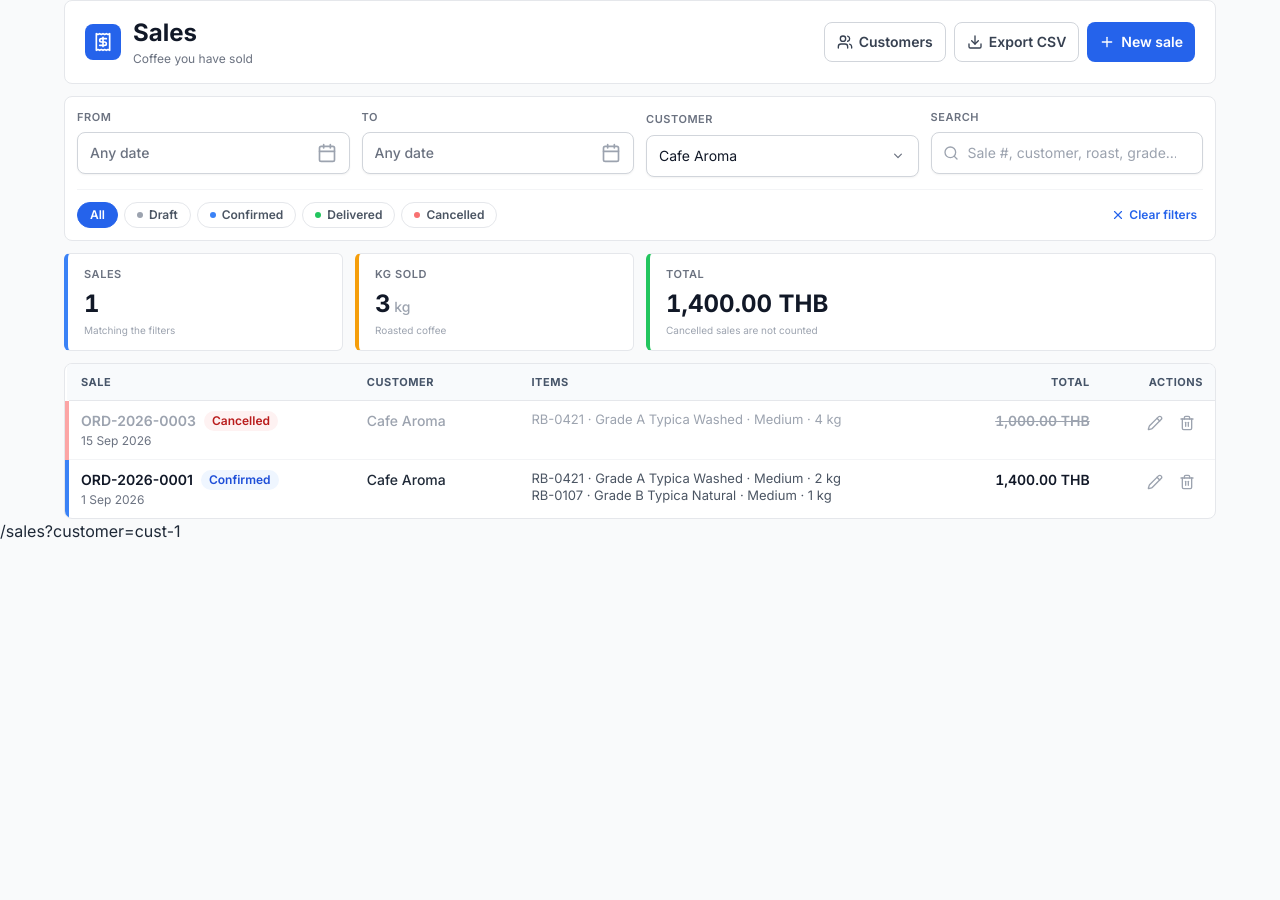
Test: SalesLog › shows the details of a sale right after it is recorded
Click the button "New sale" at (1141, 42), box [1087, 22, 1195, 62]
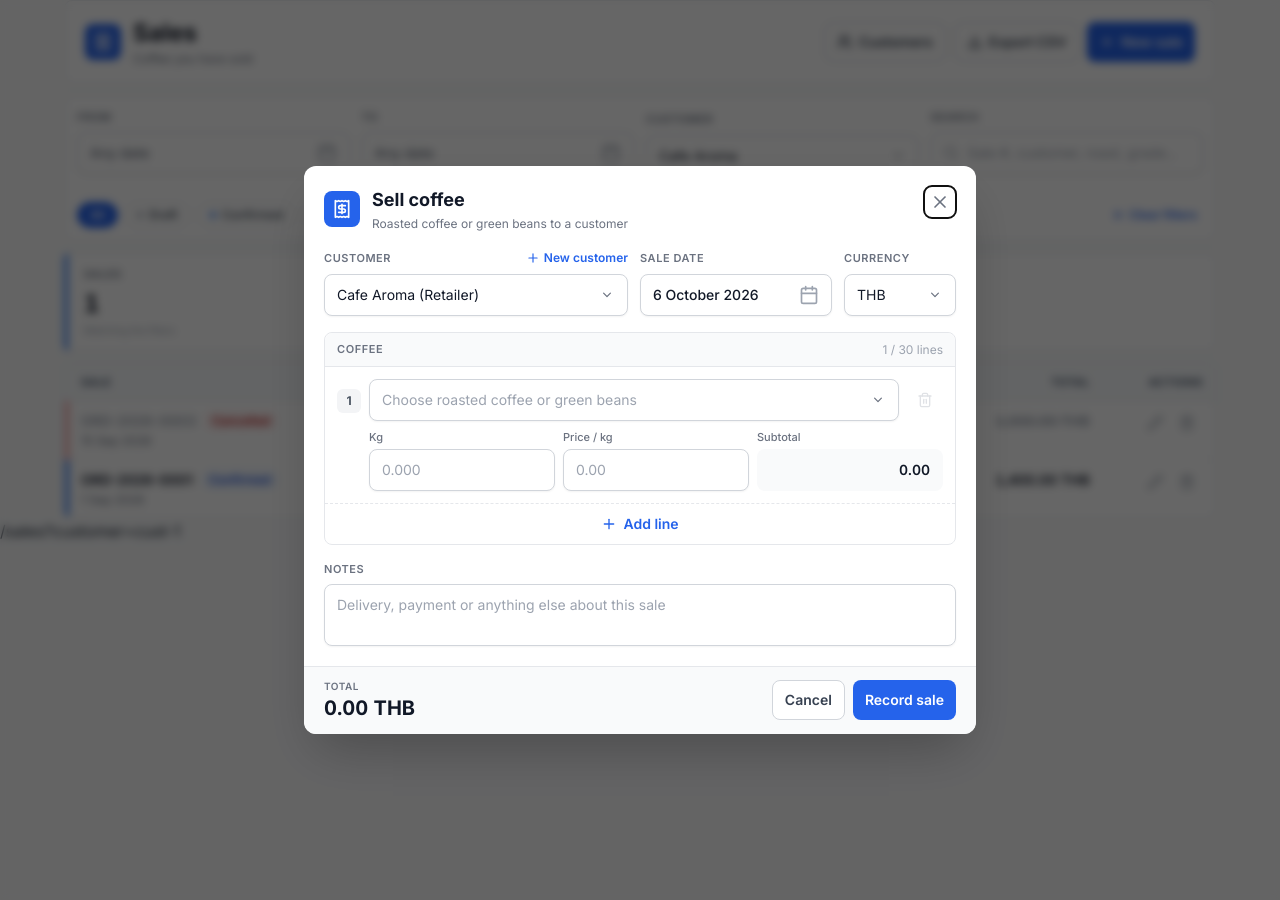
Click the button "Choose roasted coffee or green beans" at (634, 400), box [369, 379, 899, 421]
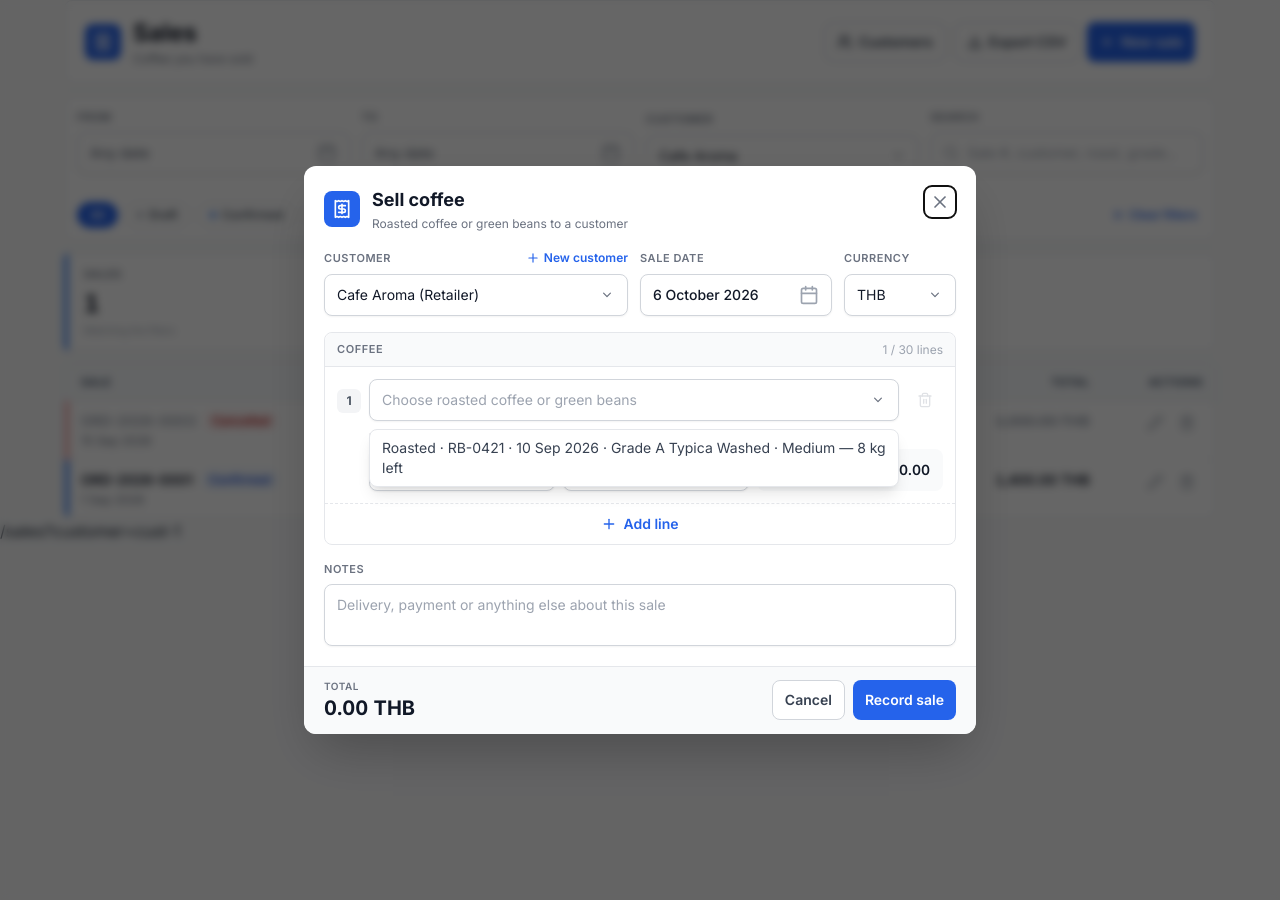
Click the button "RB-0421" at (634, 458), box [370, 430, 898, 486]
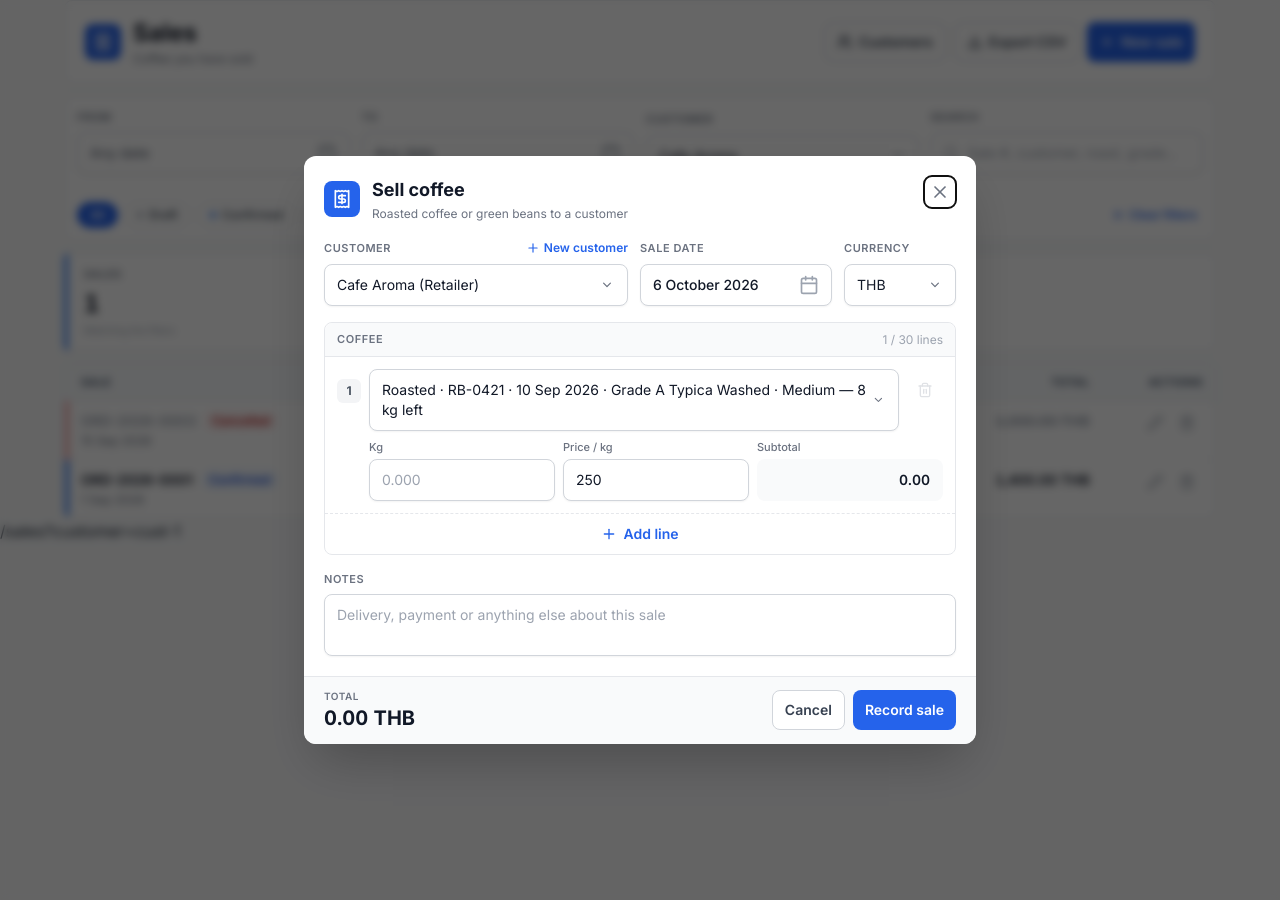
Type "1" into the field labelled "Kg" at (462, 480), box [369, 459, 555, 501]
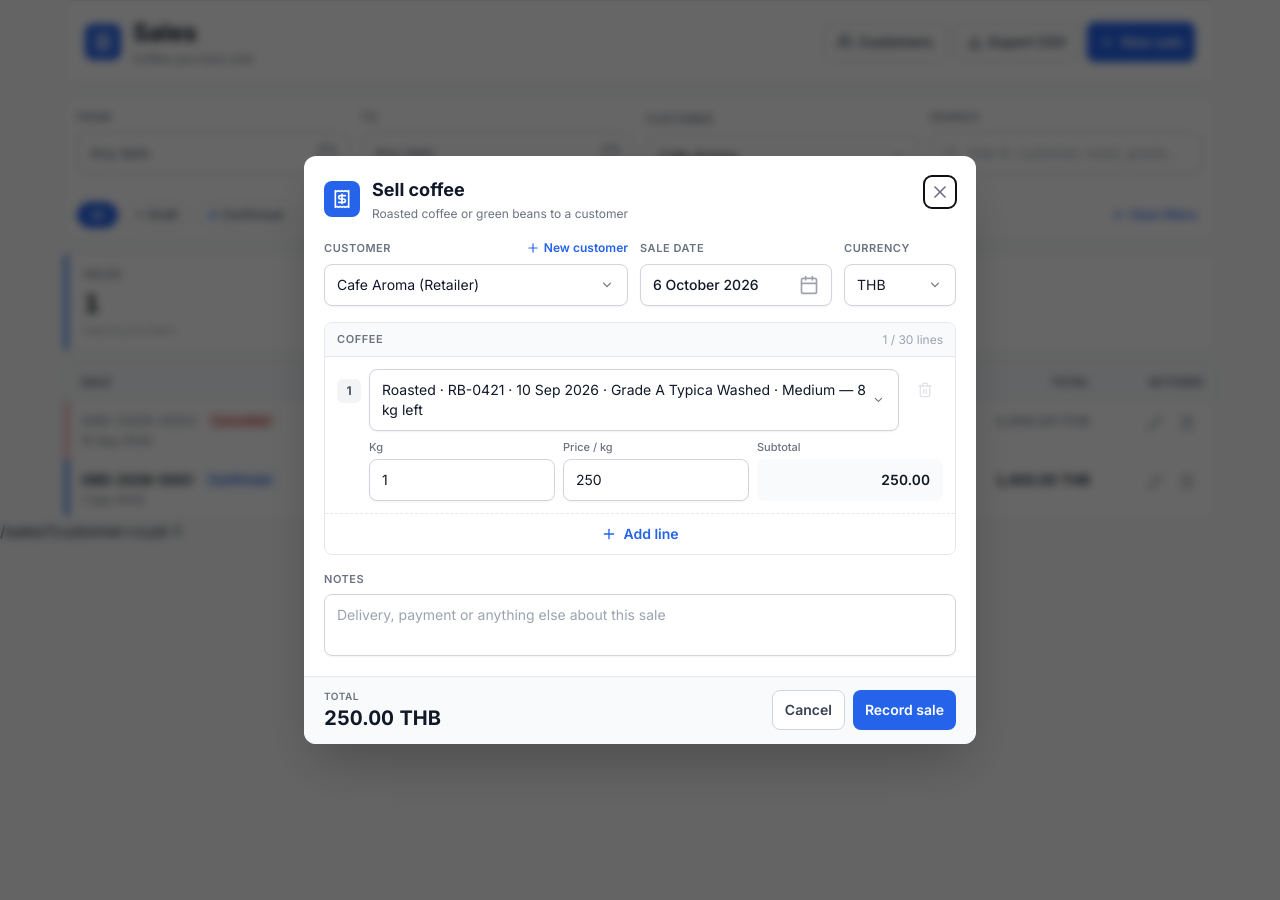
Replace the text in the field labelled "Price / kg" with "500" at (656, 480), box [563, 459, 749, 501]
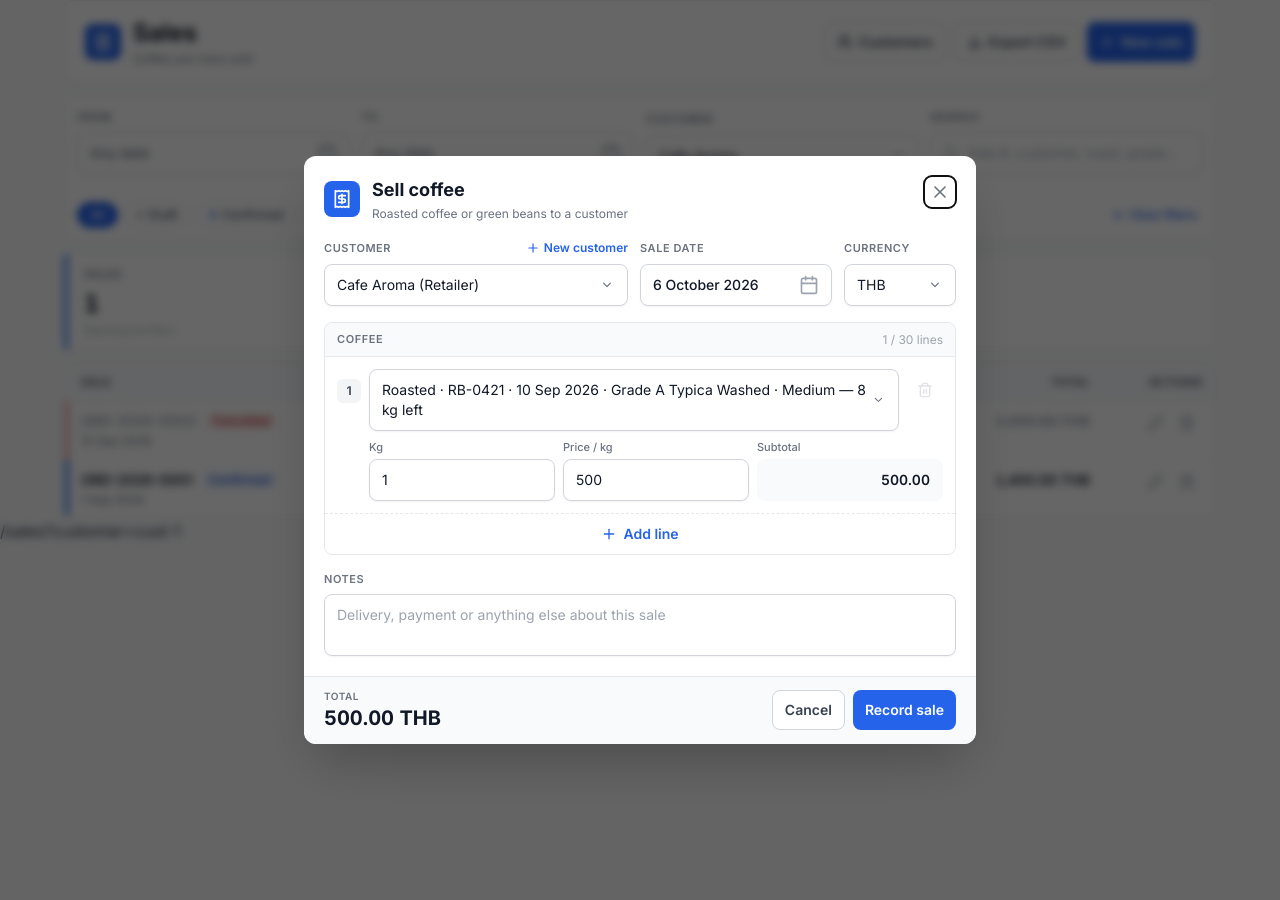
Click the button "Record sale" at (904, 710), box [853, 690, 956, 730]
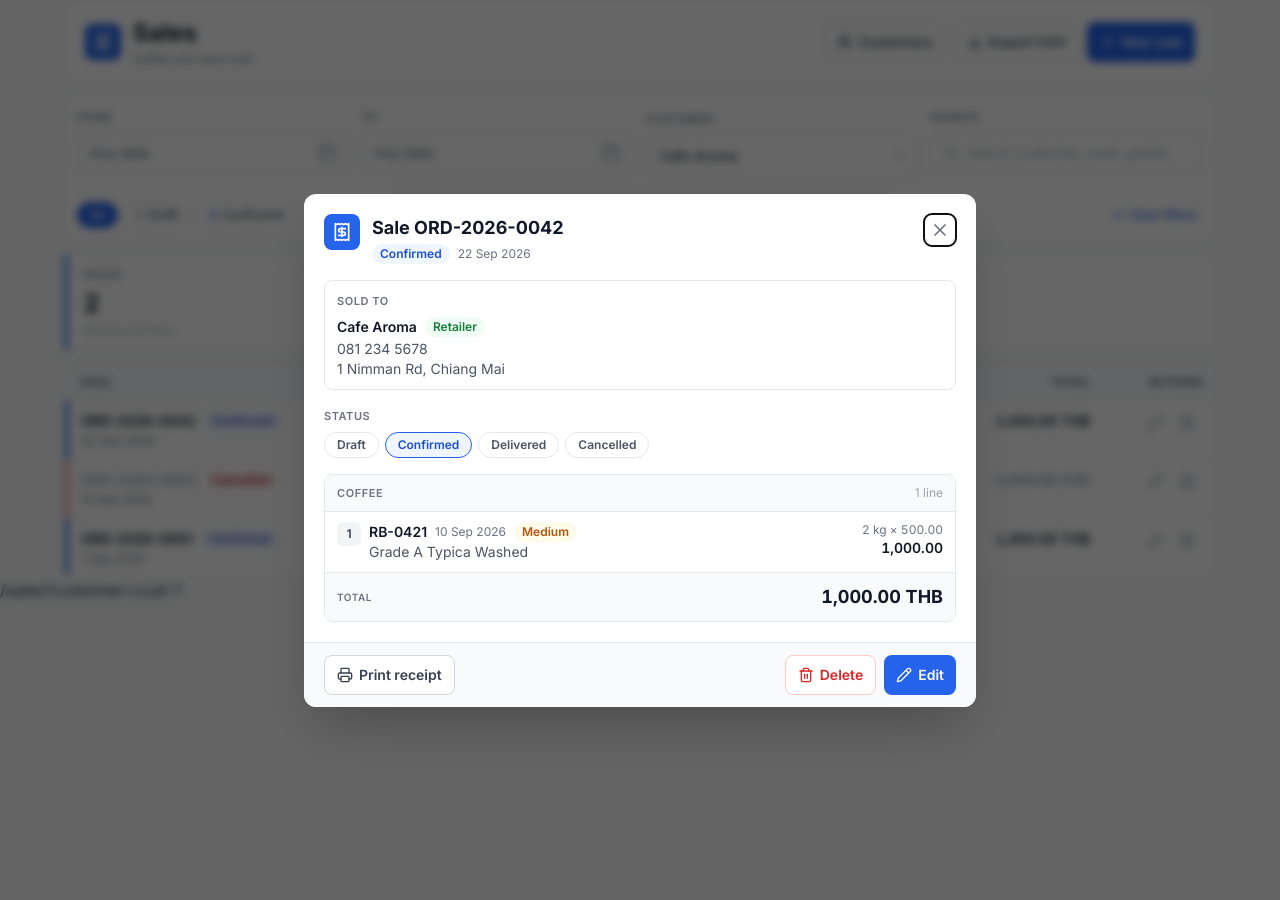
Expected: the number of dialogs is 1
Expected: the dialog "Sale ORD-2026-0042" is shown
Expected: the heading "Sale ORD-2026-0042" is shown, [372, 214, 564, 242]
